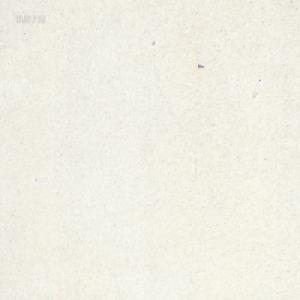Nail: (197, 63, 204, 67)
